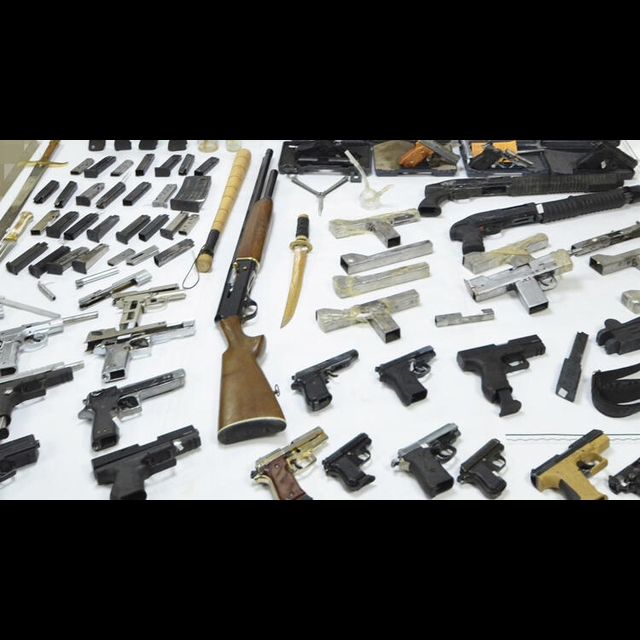SILAH: (90, 423, 205, 501), (451, 331, 549, 418), (524, 429, 609, 500), (387, 418, 461, 495), (288, 346, 366, 414), (372, 342, 441, 406), (319, 430, 382, 495), (458, 431, 513, 499)
